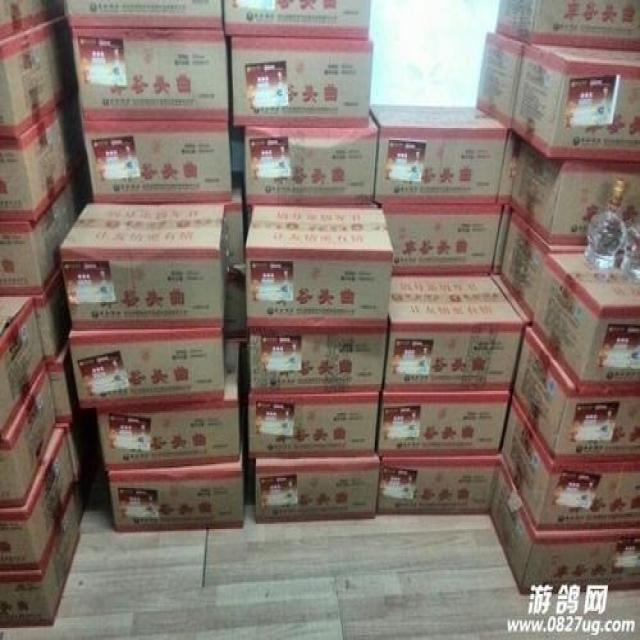box: (59, 201, 230, 326), (492, 454, 640, 594), (500, 396, 640, 529), (97, 343, 241, 471), (384, 273, 536, 393), (244, 203, 390, 326), (512, 324, 640, 461), (509, 44, 639, 164), (70, 27, 232, 123), (531, 251, 639, 389), (371, 106, 507, 207), (109, 432, 244, 532), (509, 142, 640, 244), (230, 36, 372, 130), (0, 157, 93, 297), (68, 324, 224, 406), (243, 111, 378, 203), (82, 121, 233, 201), (0, 485, 82, 628), (0, 90, 86, 218), (0, 425, 74, 570), (248, 324, 388, 393), (378, 391, 512, 456), (248, 391, 381, 456), (0, 365, 58, 507), (383, 207, 503, 275), (253, 459, 380, 521), (376, 454, 499, 514), (497, 2, 639, 53), (1, 297, 46, 439), (224, 0, 370, 39), (499, 210, 552, 312), (65, 0, 225, 31), (476, 34, 525, 130), (33, 270, 73, 362), (47, 340, 78, 425), (497, 128, 525, 207), (224, 191, 244, 265)
